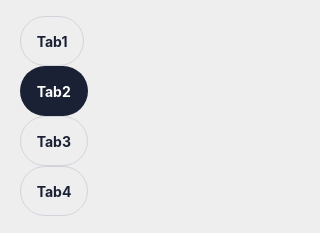
Scenario: ActiveTabContextProvider standalone › should handle tab selection uncontrolled
Expected: the tab "Tab2" is selected, left=20, top=66, right=88, bottom=116
Click the tab "Tab3" at (54, 141), box left=20, top=116, right=88, bottom=166
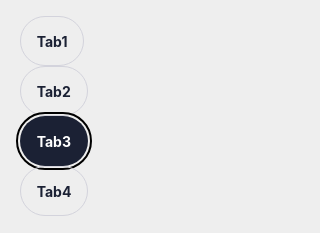
Expected: the tab "Tab3" is selected, left=20, top=116, right=88, bottom=166
Expected: the tab "Tab2" is not selected, left=20, top=66, right=88, bottom=116
